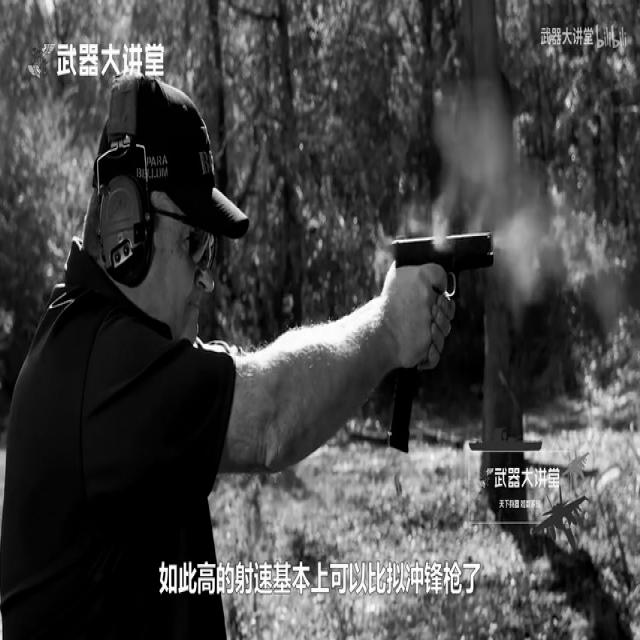Sub-machine-gun: (362, 157, 542, 468)
